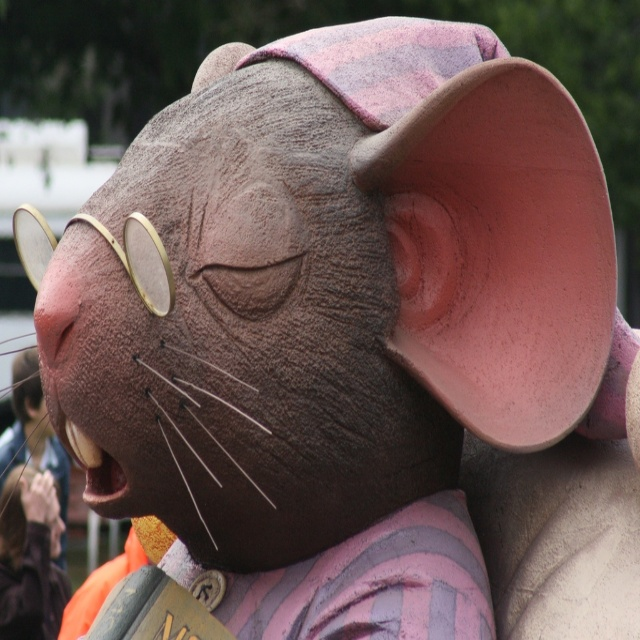Mouse: (0, 14, 640, 639)
